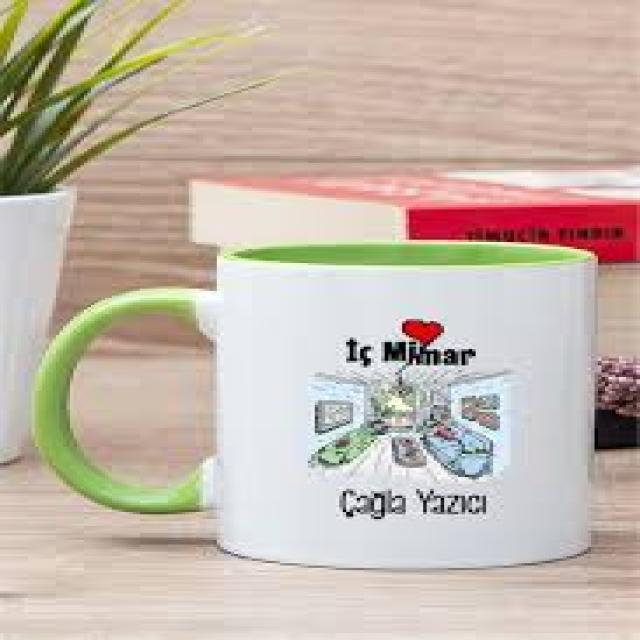taza: (33, 240, 600, 568)
